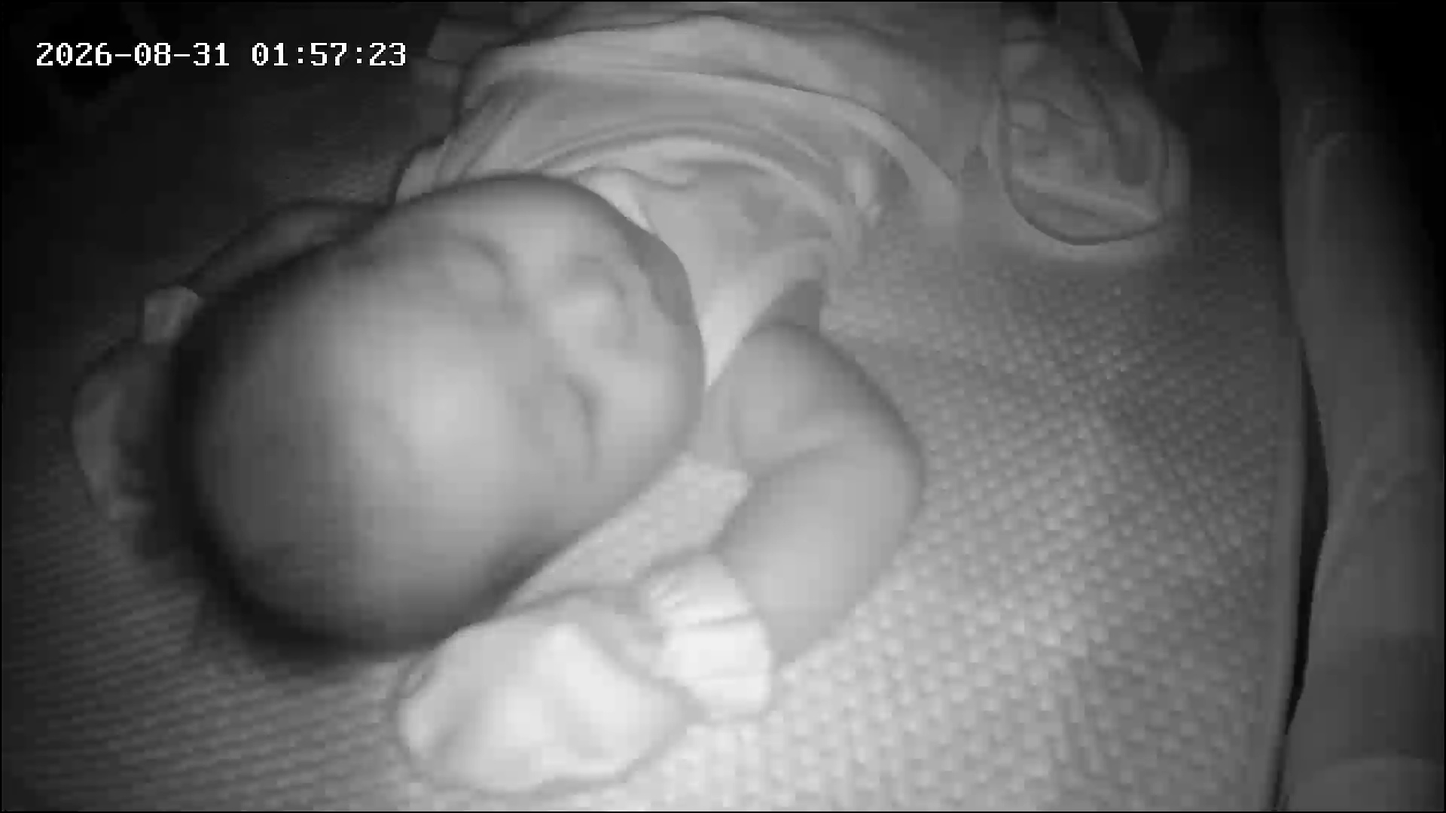baby: (115, 3, 1019, 711)
baby_face: (121, 140, 721, 662)
